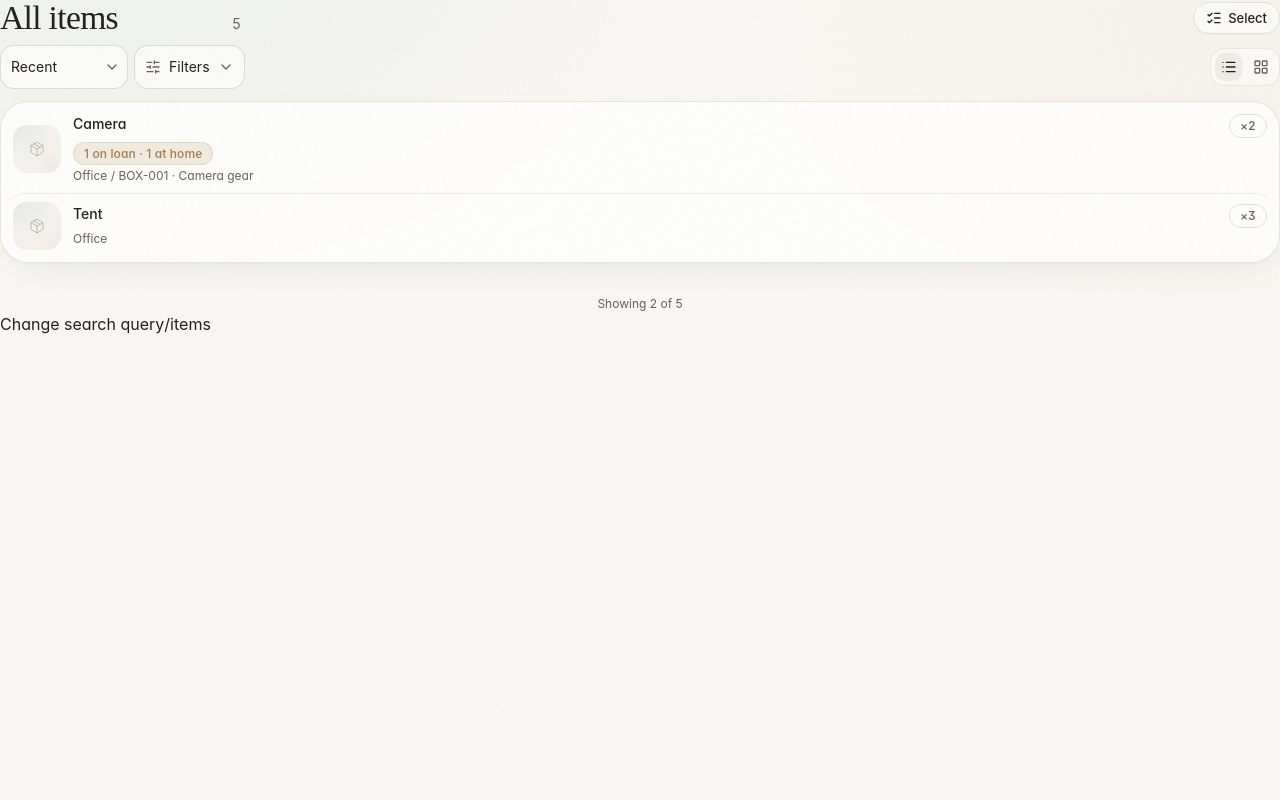
Scenario: ItemsPage bulk organisation › shows compact rows by default, with no checkboxes until Select is pressed
Expected: the text "1 on loan · 1 at home" is shown, [73,142,213,165]
Expected: the heading "All items" is shown, [0,0,118,36]
Click the button with aria-label "Select items": (1237, 18) [1193,2,1279,34]
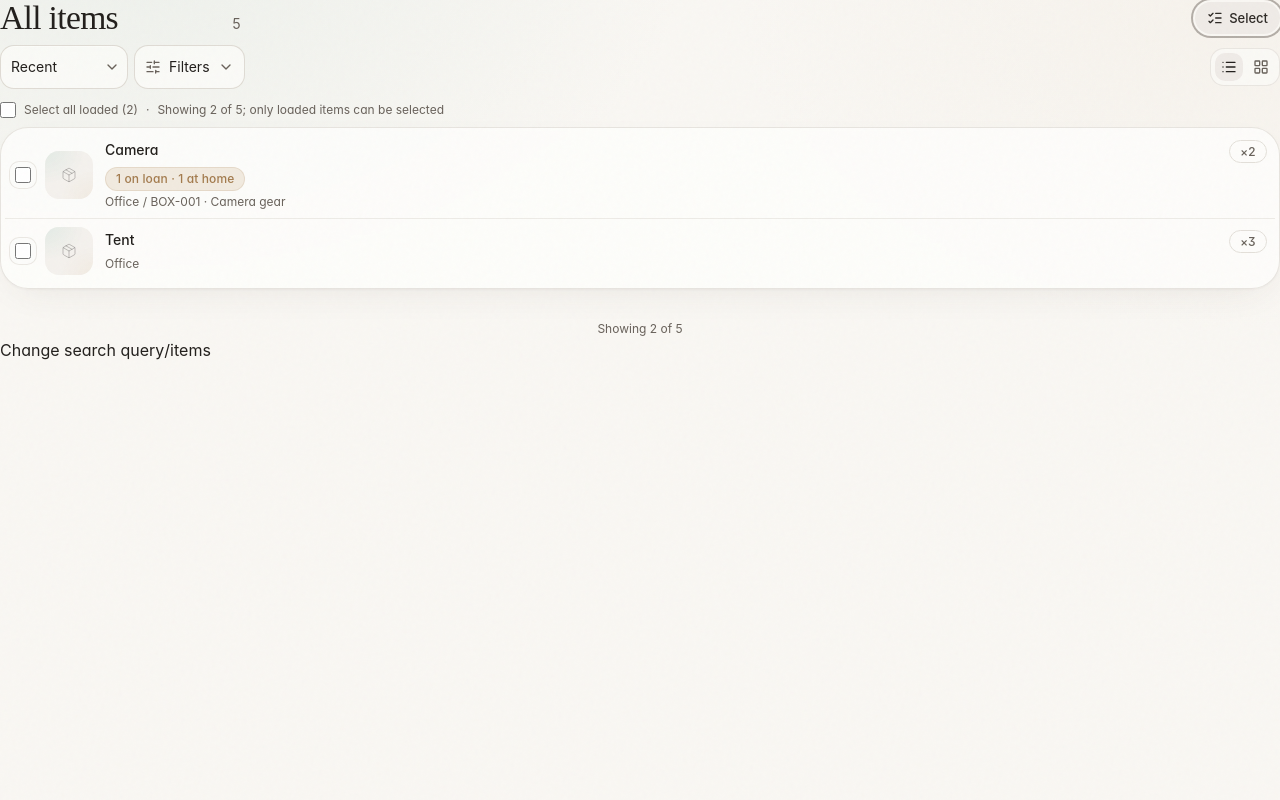
Expected: the checkbox named "Select all loaded items" is not checked, [0,102,16,118]
Expected: the text "Select all loaded (2)" is shown, [24,101,138,119]
Expected: the checkbox named "Select Tent" is not checked
Pressing it again with something selected hides the checkboxes and clears the selection.
Click the checkbox named "Select Tent": (23, 251) [15,243,31,259]
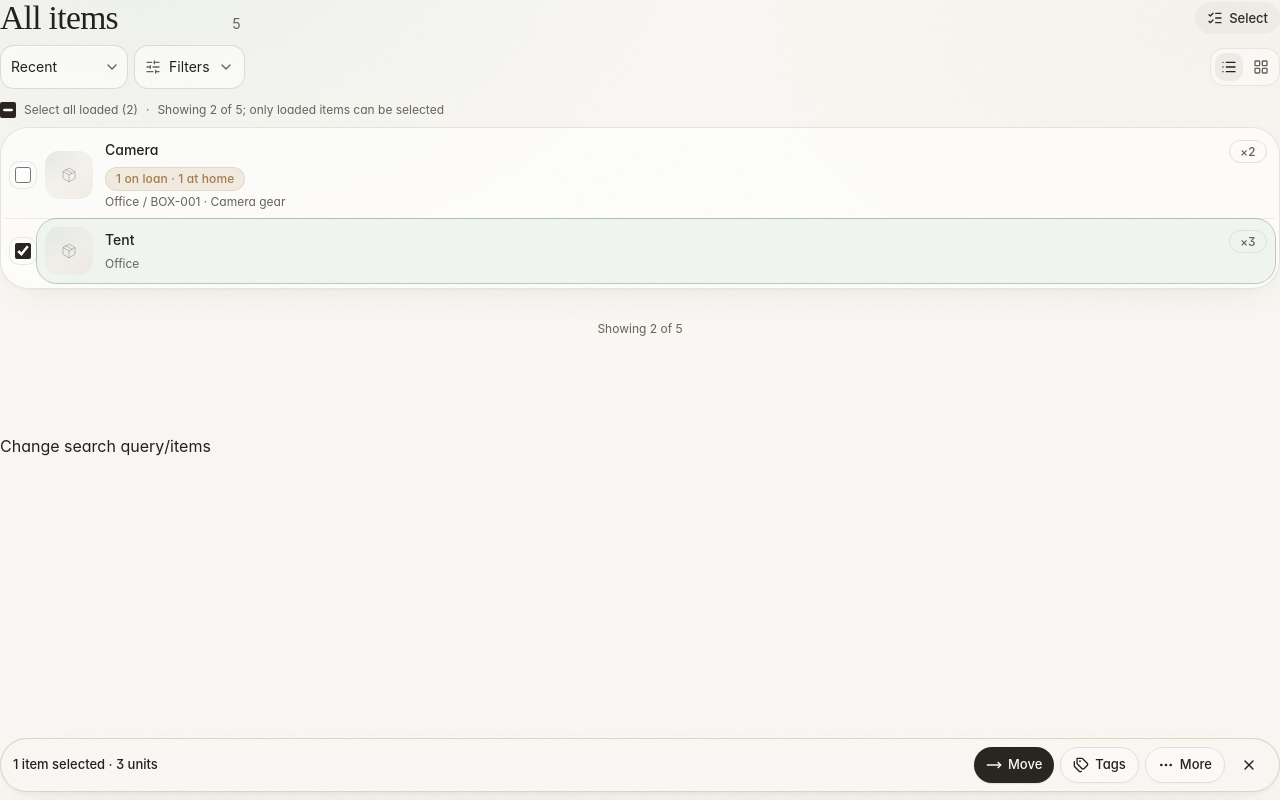
Expected: the element named "Selected items" is shown, [0,738,1279,792]
Click the button with aria-label "Select items": (1238, 18) [1195,2,1279,34]
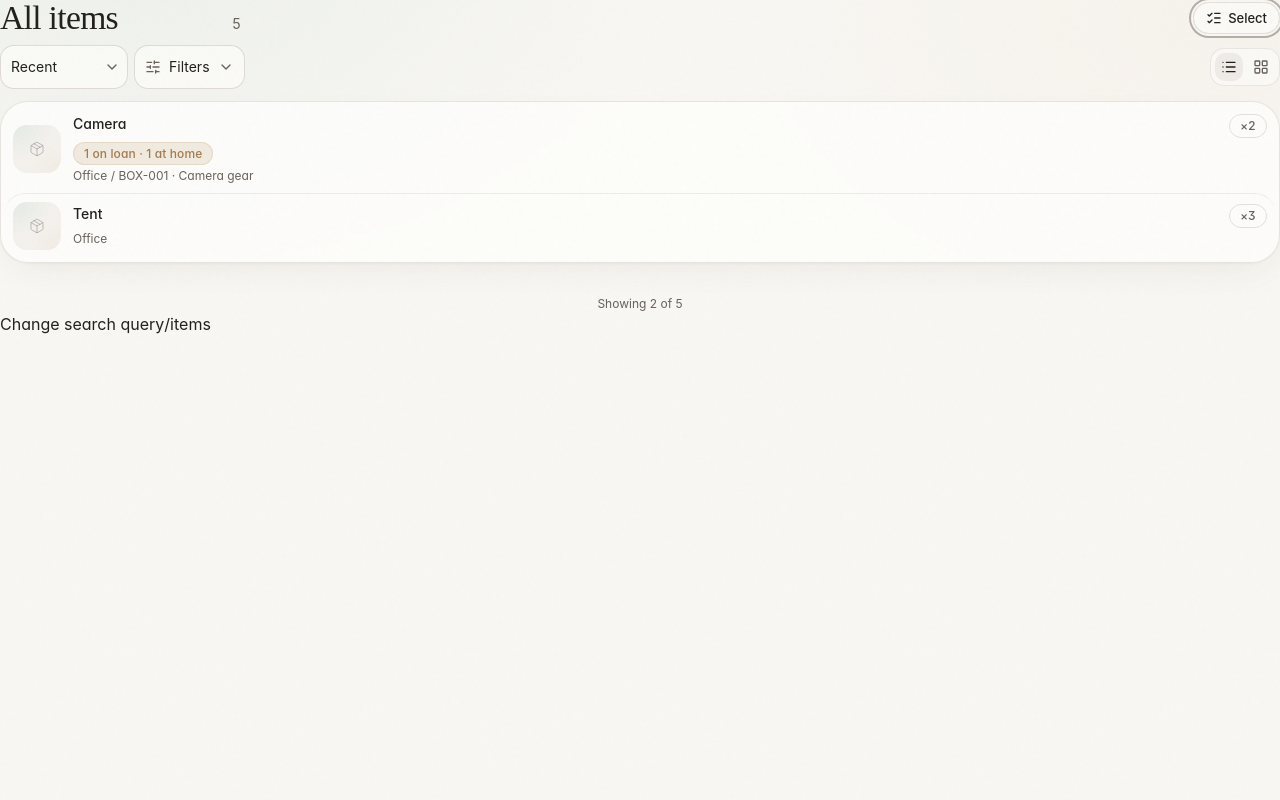
Expected: the checkbox is gone
Click the button with aria-label "Select items": (1237, 18) [1193,2,1279,34]
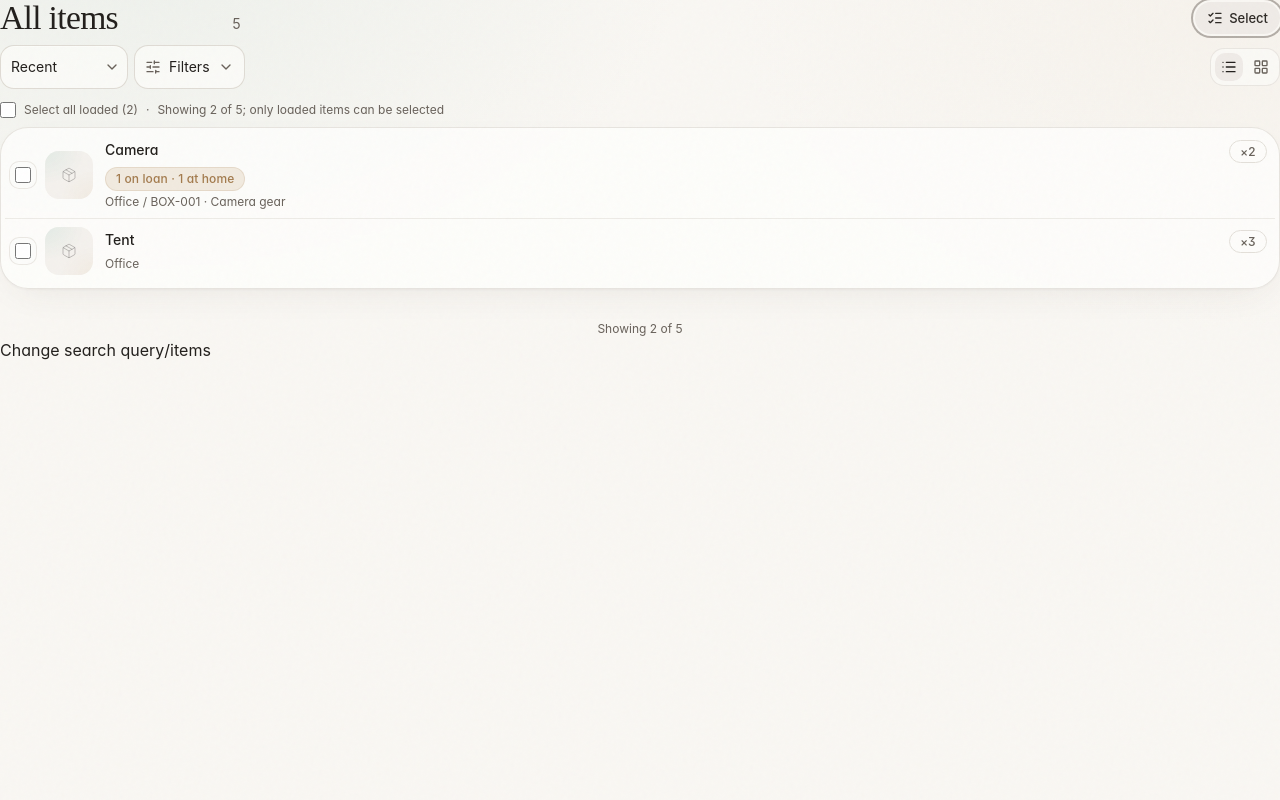
Expected: the checkbox named "Select Tent" is not checked, [15,243,31,259]
